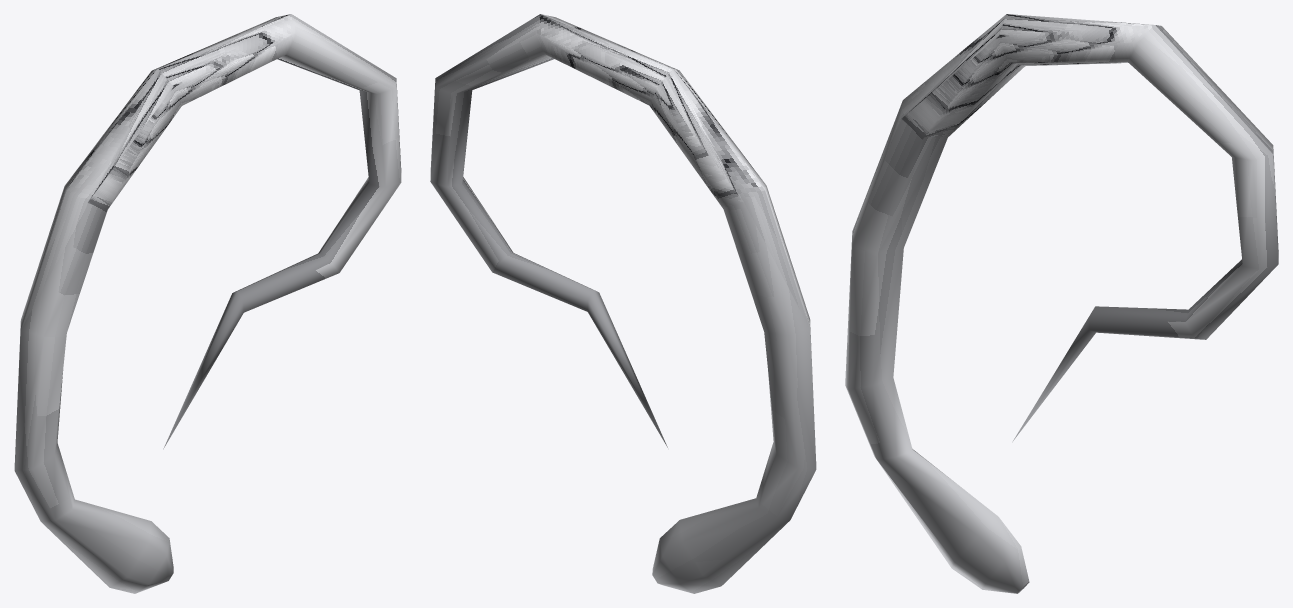
Rendered from snake_000019.obj.
The picture shows the model from 3 angles, left to right: view 1: azimuth 30°, elevation 25°; view 2: azimuth 150°, elevation 25°; view 3: azimuth 330°, elevation 25°; orthographic projection. The views are drawn at different scales.
Visible parts, largest first — view 1: Cylinder; view 2: Cylinder; view 3: Cylinder.
Boxes of the visible parts, left/top/right/bottom form: Cylinder: left=14, top=14, right=401, bottom=593; Cylinder: left=430, top=14, right=816, bottom=593; Cylinder: left=845, top=14, right=1278, bottom=593.
Size of the model in its own units: 3.56 by 4.77 by 0.3671.
